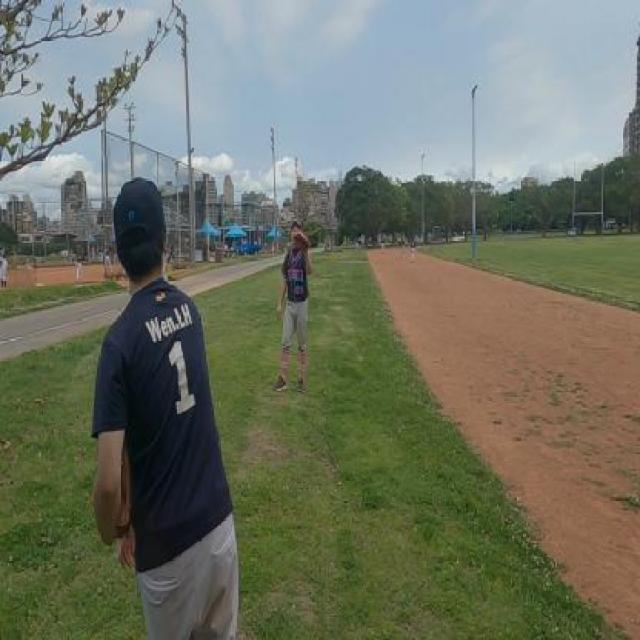baseball: (297, 173, 303, 184)
